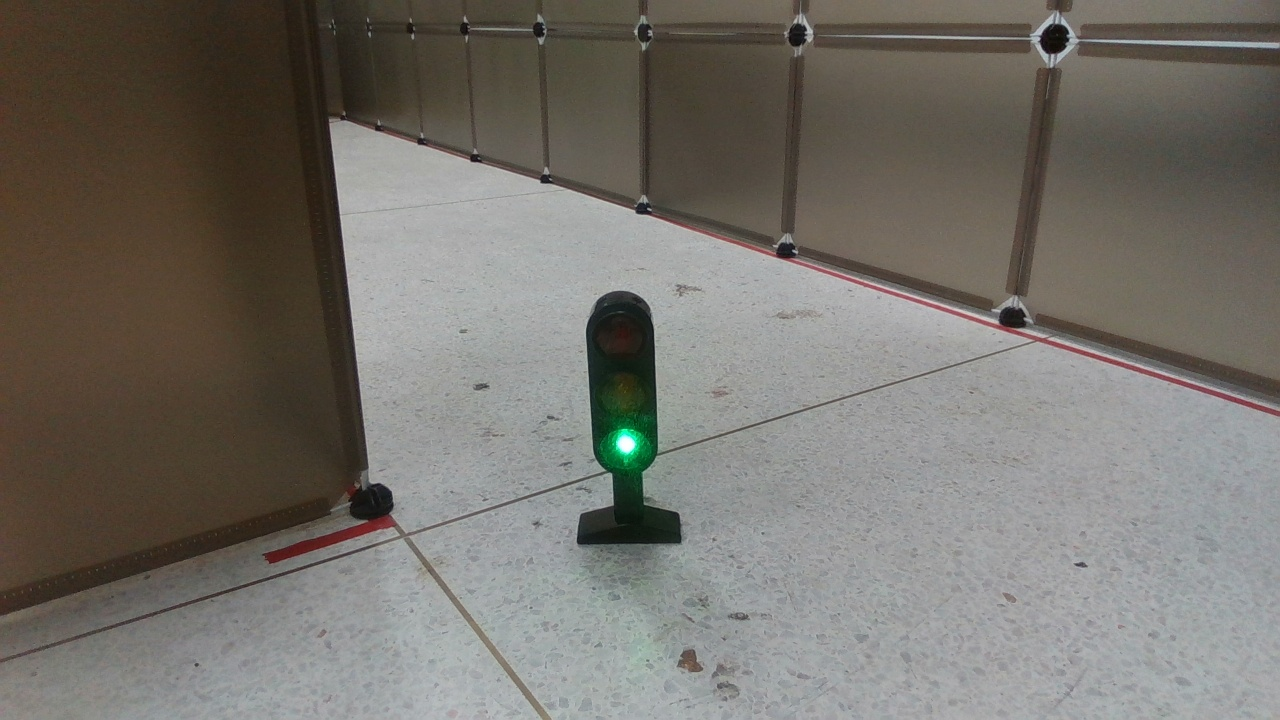Green traffic light: (576, 294, 688, 547)
